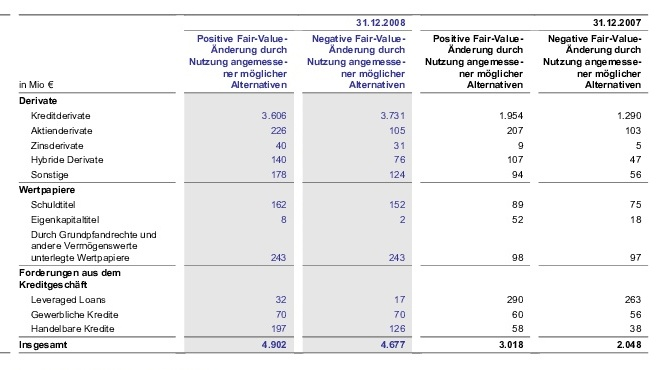table: (0, 0, 663, 370)
